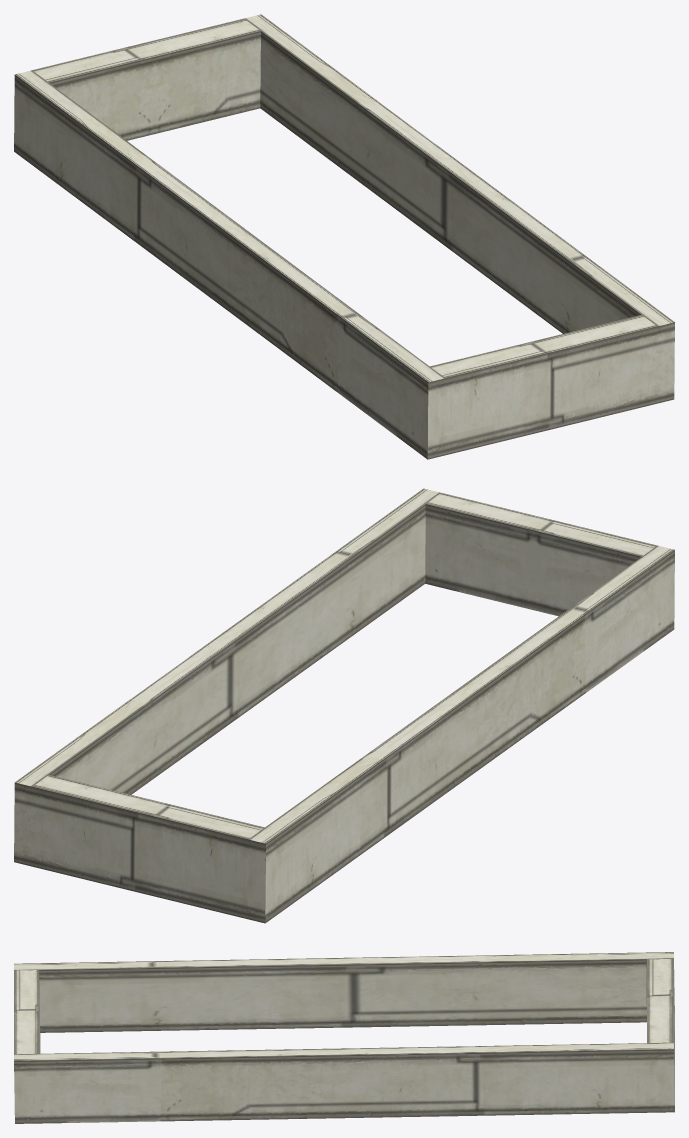
File: STA20_pillarbeam.FBX
3 renders of one model, top to bottom at view 1: azimuth 30°, elevation 25°; view 2: azimuth 150°, elevation 25°; view 3: azimuth 270°, elevation 25°, orthographic. The views are drawn at different scales.
Visible parts, largest first — view 1: STA20_pillarbeam; view 2: STA20_pillarbeam; view 3: STA20_pillarbeam.
Boxes of the visible parts, x1,y1,x2,y2 form: STA20_pillarbeam: (14, 14, 674, 459); STA20_pillarbeam: (14, 488, 674, 923); STA20_pillarbeam: (14, 952, 674, 1123).
Bounding box in the file's own units: 3.16 × 1.06 × 8.82.
